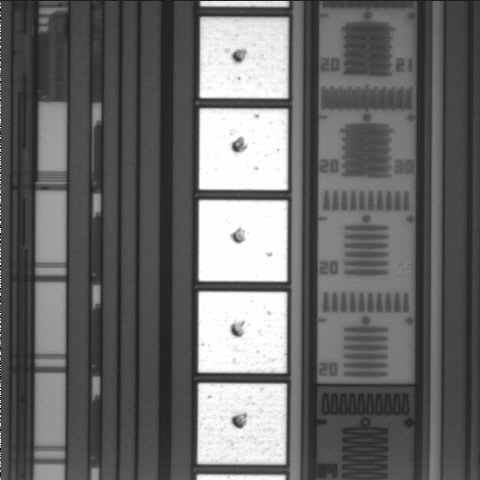pad: (199, 108, 288, 190), (199, 200, 288, 282), (197, 383, 287, 464), (198, 292, 287, 373), (200, 17, 288, 98)
